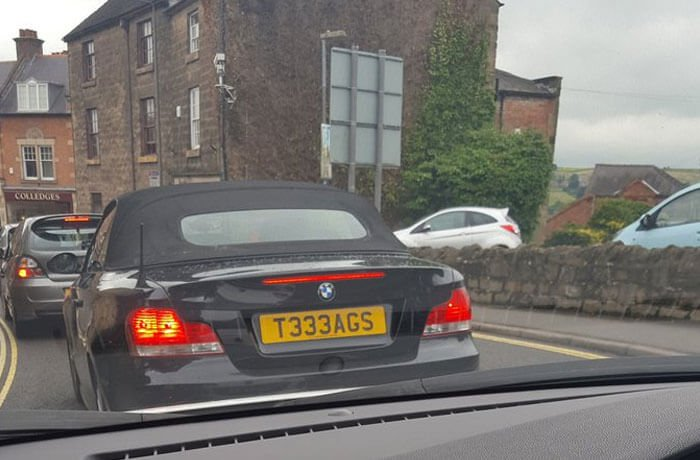license plate: (248, 300, 398, 356)
